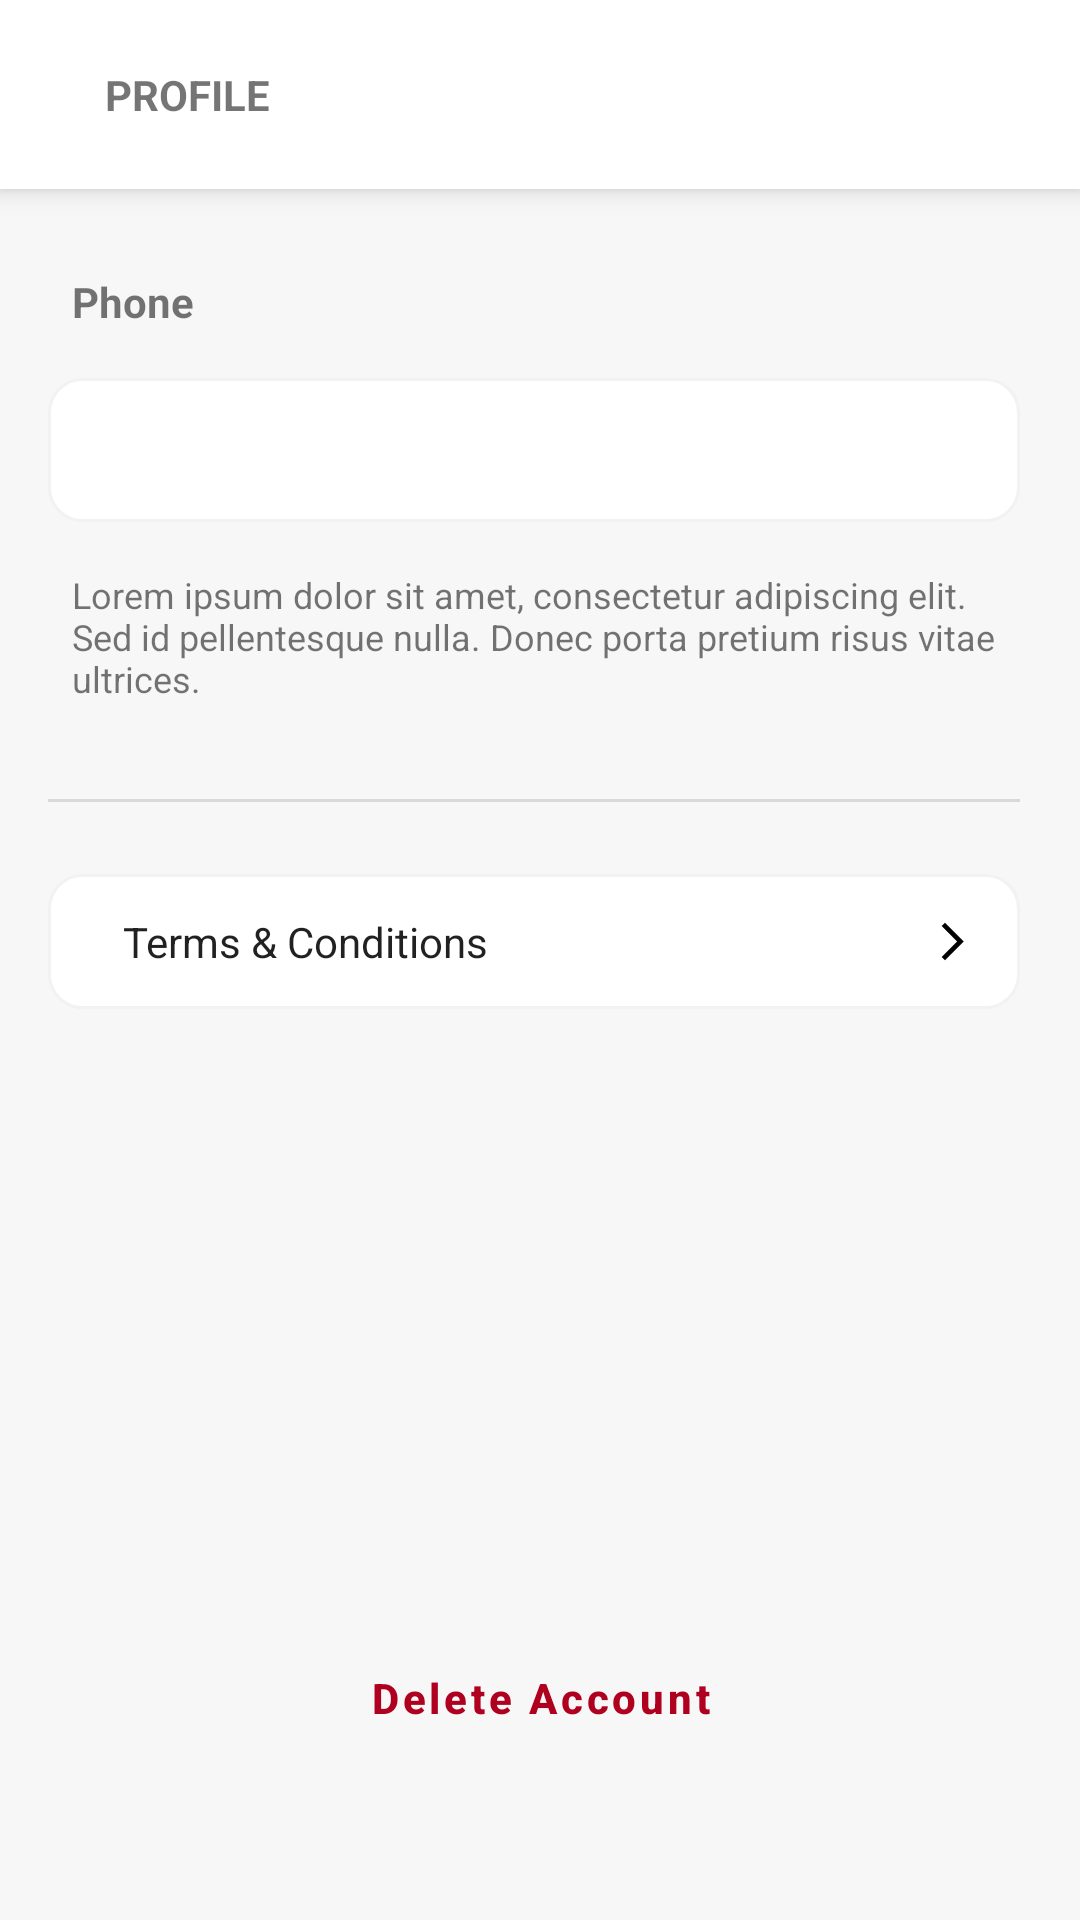

Screen size 1080x1920. Icon name, then its center in pixels as point (x, y):
right arrow: point (953, 941)
